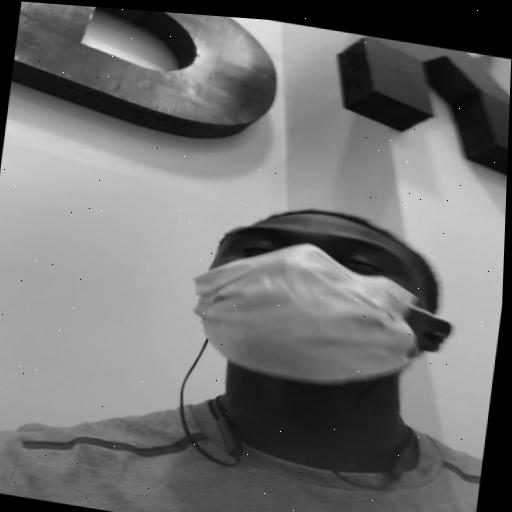mask: (181, 197, 439, 402)
